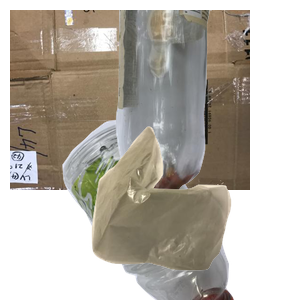cardboard: (10, 10, 250, 190)
glass: (113, 10, 300, 190)
plastic: (25, 120, 252, 300)
trash: (89, 124, 300, 300)
